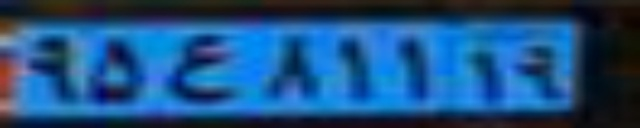1: (392, 34, 430, 99), (336, 36, 372, 100), (466, 47, 503, 102)
5: (83, 36, 147, 103)
8: (261, 35, 322, 101)
9: (17, 33, 75, 101), (514, 44, 564, 101)
ain: (162, 33, 239, 103)
